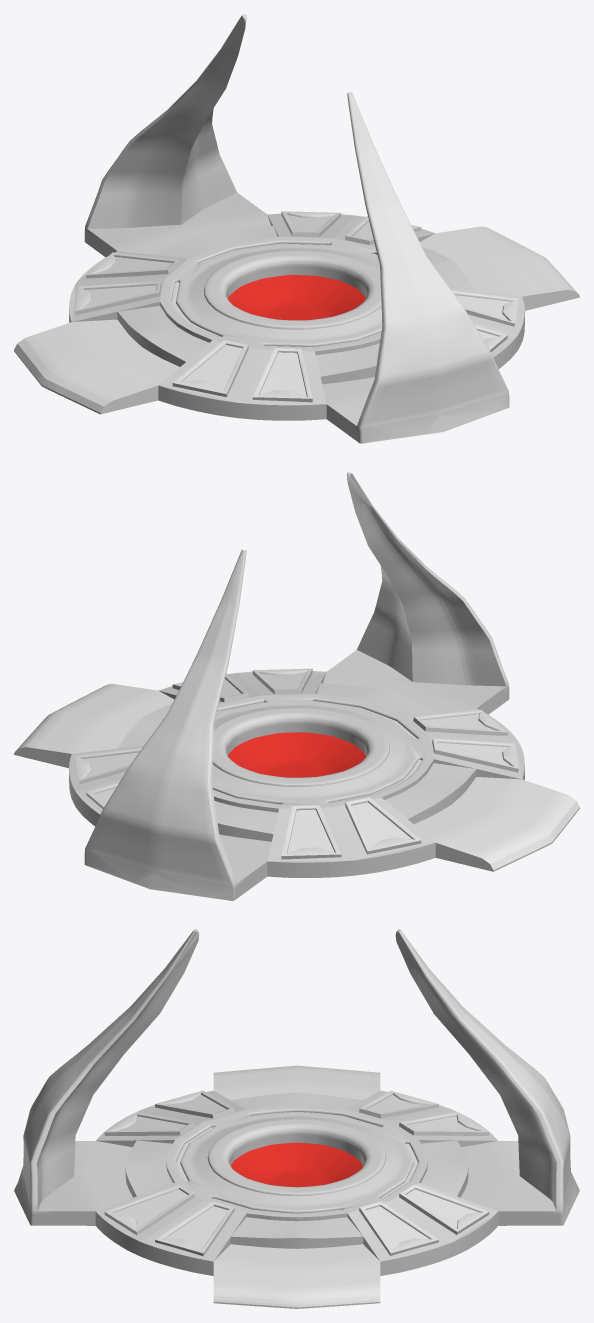
Rendered from Portail.fbx.
3 renders of one model, top to bottom at view 1: azimuth 30°, elevation 25°; view 2: azimuth 150°, elevation 25°; view 3: azimuth 270°, elevation 25°, orthographic. The views are drawn at different scales.
Parts seen in each view (by area): view 1: Cylinder, Cylinder.002, Cylinder.001; view 2: Cylinder, Cylinder.001, Cylinder.002; view 3: Cylinder, Cylinder.001, Cylinder.002.
Part boxes in pixels (left/top/right/bottom): Cylinder: left=14, top=14, right=579, bottom=443; Cylinder.002: left=172, top=211, right=421, bottom=402; Cylinder.001: left=75, top=252, right=518, bottom=351; Cylinder: left=14, top=472, right=579, bottom=900; Cylinder.001: left=172, top=668, right=421, bottom=859; Cylinder.002: left=75, top=709, right=518, bottom=808; Cylinder: left=14, top=929, right=579, bottom=1308; Cylinder.001: left=104, top=1090, right=489, bottom=1256; Cylinder.002: left=104, top=1090, right=489, bottom=1255.
Size of the model in its own units: 259 by 132 by 260.
